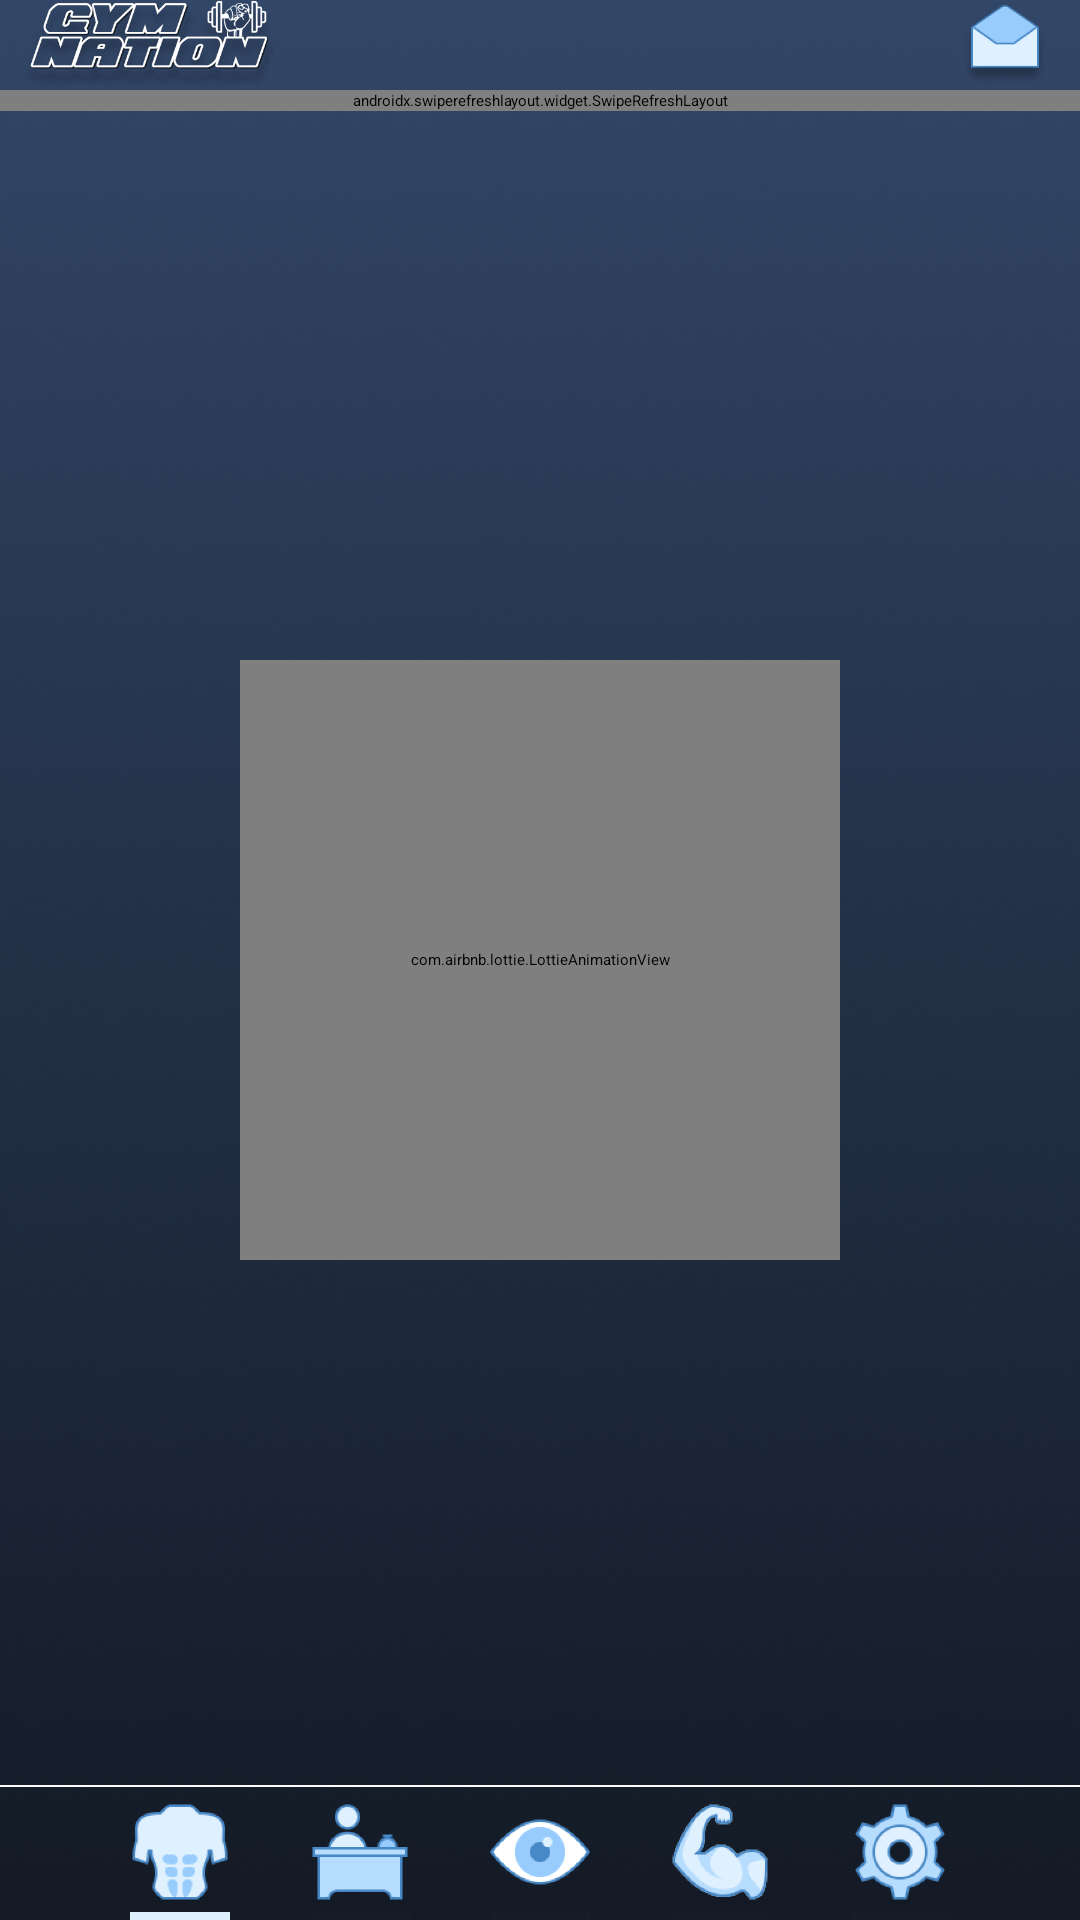

Where icons sit on this 1080w x 1920h app screen, as (x1, y1, x2, y2):
messege not: (971, 5, 1039, 72)
setting not: (855, 1804, 945, 1900)
